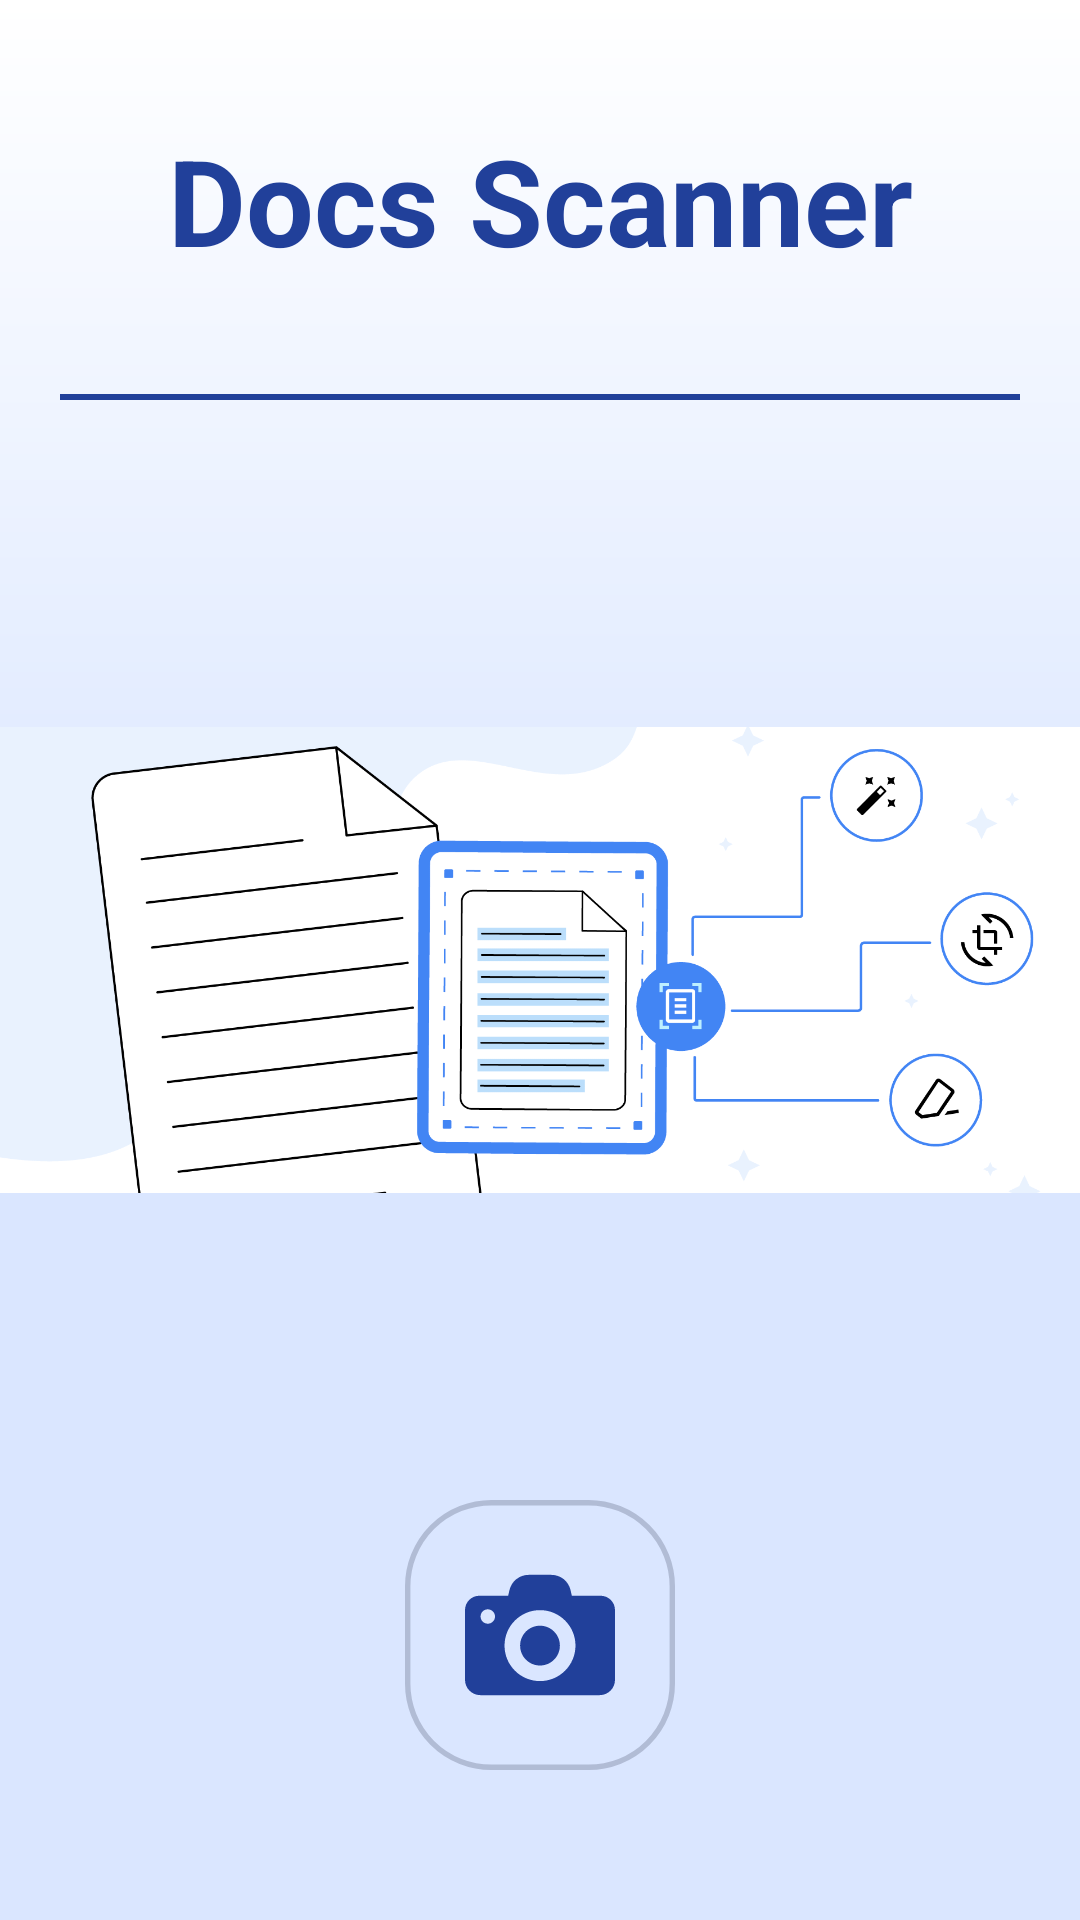

Named icons in this screenshot (1080px×1920px) and their bounding boxes, Rect(x1, y1, x2, y2):
camera: Rect(465, 1574, 615, 1696)
